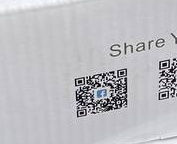2d: (74, 68, 128, 118)
